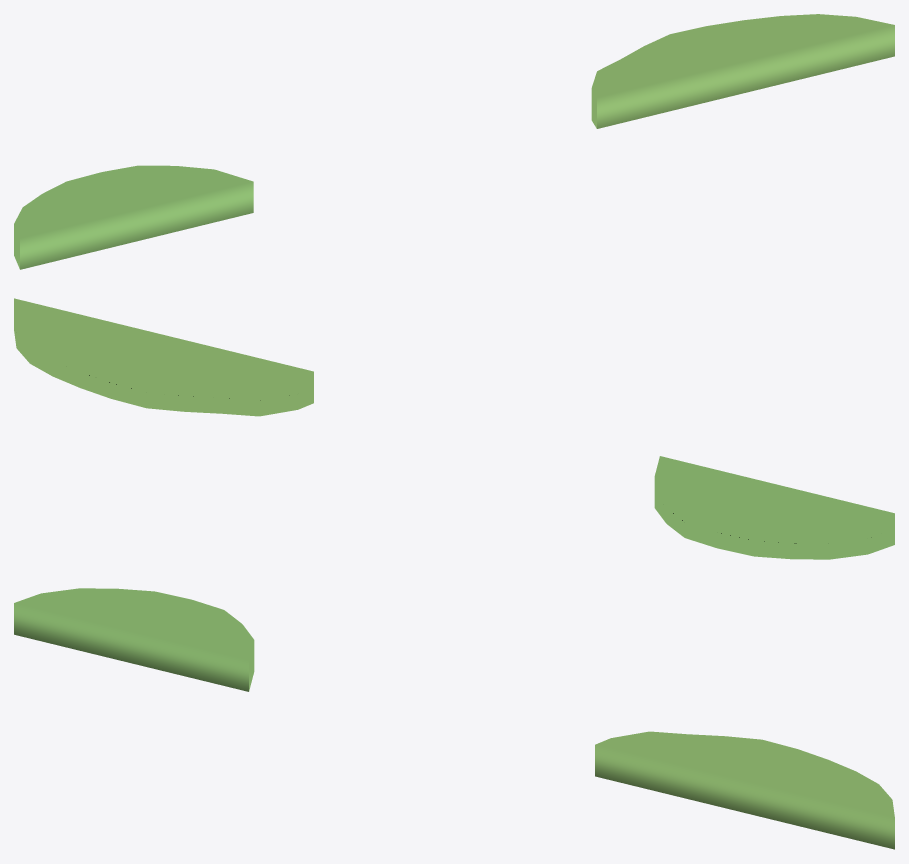
The model's file is hillfront.fbx.
3 renders of one model, top to bottom at view 1: azimuth 30°, elevation 25°; view 2: azimuth 150°, elevation 25°; view 3: azimuth 330°, elevation 25°, orthographic.
Parts seen in each view (by area): view 1: hillsfront1; view 2: hillsfront1; view 3: hillsfront1.
Boxes of the visible parts, left/top/right/bottom form: hillsfront1: left=14, top=14, right=894, bottom=269; hillsfront1: left=14, top=298, right=894, bottom=559; hillsfront1: left=14, top=588, right=894, bottom=849.
Bounding box in the file's own units: 0.5826 × 0.02 × 0.0549.
